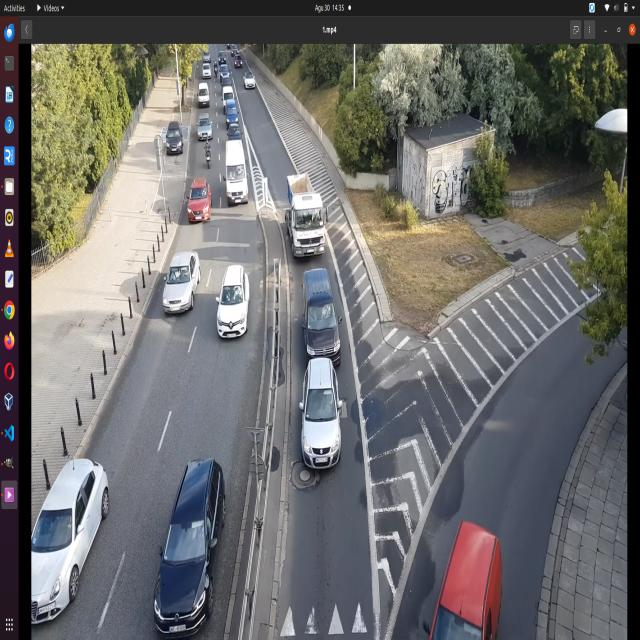person_with_seatbelt: (194, 519, 211, 550), (309, 206, 325, 232), (230, 283, 244, 304), (321, 301, 332, 324), (169, 268, 179, 286)
